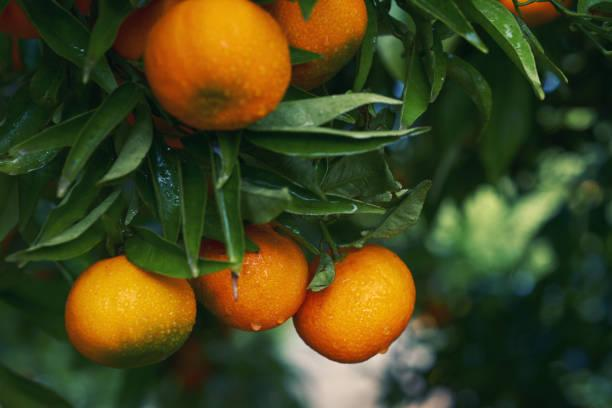orange: (140, 3, 305, 136), (290, 232, 462, 349), (50, 241, 193, 347), (204, 228, 311, 324)
